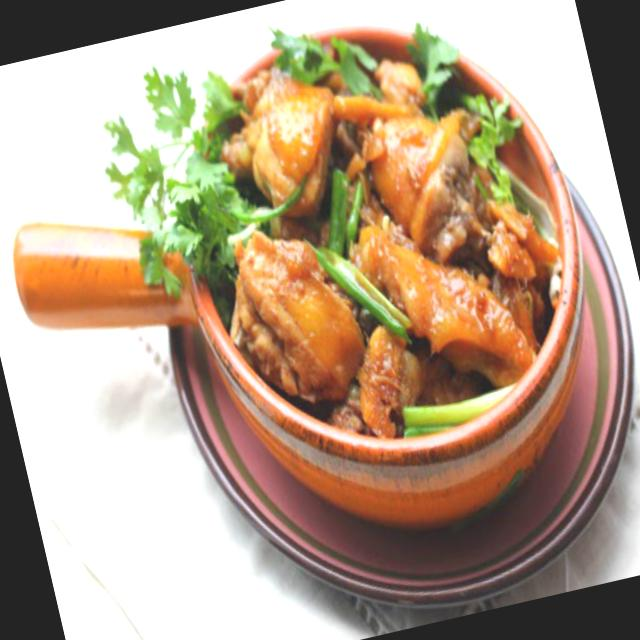ga kho: (222, 60, 559, 437)
